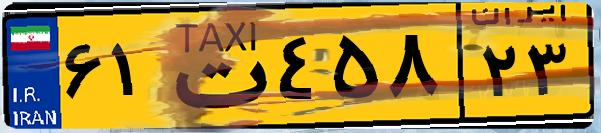1: (110, 28, 158, 98)
2: (475, 38, 525, 113)
3: (525, 38, 570, 115)
4: (270, 28, 330, 110)
5: (330, 28, 385, 110)
6: (57, 26, 110, 100)
8: (385, 28, 445, 110)
ت: (158, 12, 270, 120)
